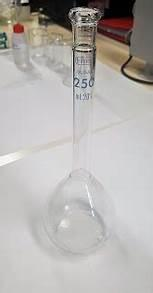Volumetric flask: (36, 0, 130, 256)
